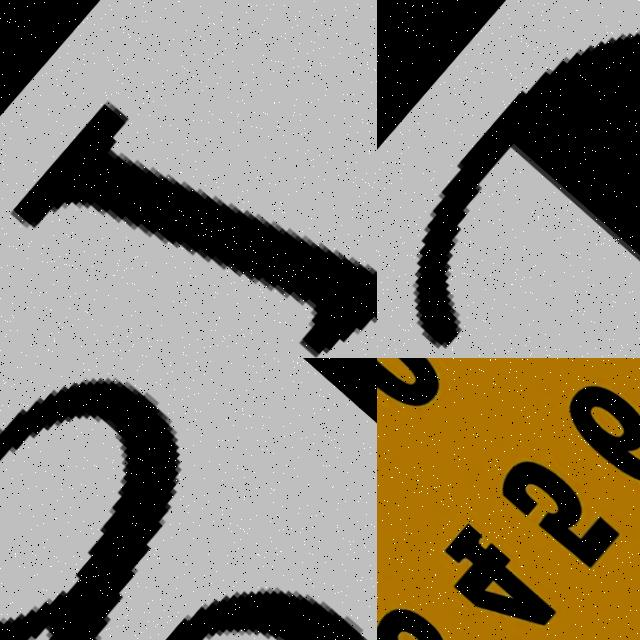0: (377, 358, 469, 431)
3: (377, 0, 640, 358), (377, 587, 494, 640)
4: (404, 505, 576, 640)
5: (472, 433, 636, 586)
6: (534, 358, 640, 517)
G: (0, 358, 377, 640)
I: (0, 0, 377, 358)
